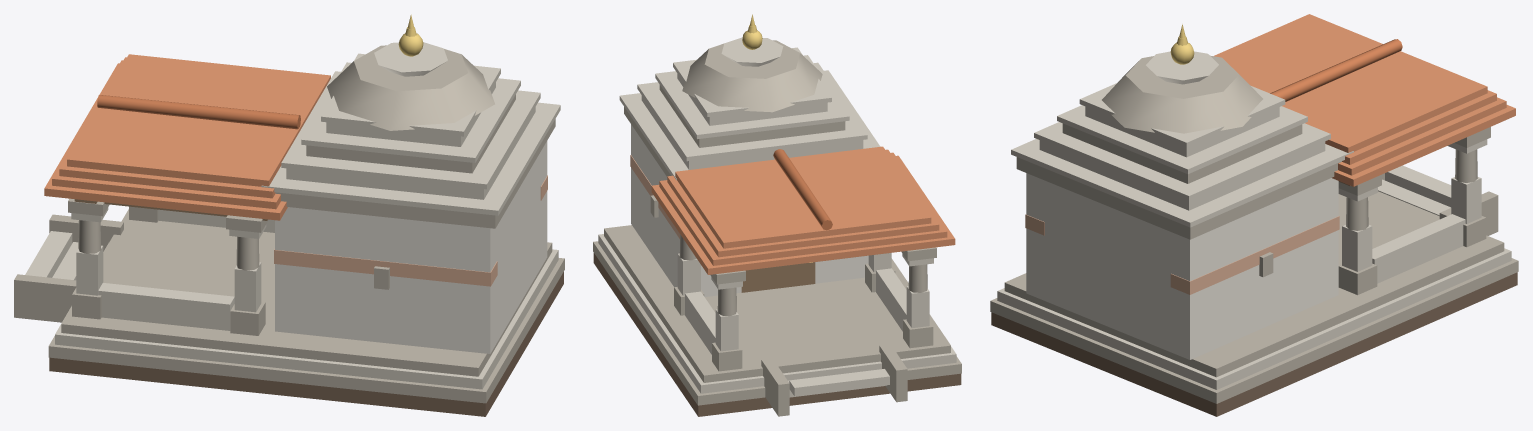
The model's file is south_indian_village_small_temple.glb.
3 views of the same model, side by side, from view 1: azimuth 30°, elevation 25°; view 2: azimuth 150°, elevation 25°; view 3: azimuth 270°, elevation 25° (orthographic). The views are drawn at different scales.
Visible parts, largest first — view 1: Temple_Granite_Adhisthana, Temple_Mukha_Mandapam, Temple_Vimana_Tower, Temple_Sanctum_Garbhagriha, Temple_Subgrade_Skirt, Mandapam_Pillar_4, Mandapam_Pillar_2; view 2: Temple_Mukha_Mandapam, Temple_Granite_Adhisthana, Temple_Vimana_Tower, Temple_Sanctum_Garbhagriha, Temple_Subgrade_Skirt, Mandapam_Pillar_1, Mandapam_Pillar_2, Mandapam_Pillar_3, Mandapam_Pillar_4; view 3: Temple_Sanctum_Garbhagriha, Temple_Vimana_Tower, Temple_Granite_Adhisthana, Temple_Mukha_Mandapam, Temple_Subgrade_Skirt, Mandapam_Pillar_3, Mandapam_Pillar_1.
Part boxes in pixels (x1=…): Temple_Granite_Adhisthana: x1=14, y1=209, x2=564, y2=403; Temple_Mukha_Mandapam: x1=44, y1=54, x2=330, y2=330; Temple_Vimana_Tower: x1=261, y1=14, x2=560, y2=228; Temple_Sanctum_Garbhagriha: x1=274, y1=141, x2=547, y2=353; Temple_Subgrade_Skirt: x1=49, y1=272, x2=563, y2=416; Mandapam_Pillar_4: x1=226, y1=215, x2=268, y2=335; Mandapam_Pillar_2: x1=68, y1=198, x2=109, y2=319; Temple_Mukha_Mandapam: x1=651, y1=146, x2=955, y2=354; Temple_Granite_Adhisthana: x1=593, y1=225, x2=961, y2=416; Temple_Vimana_Tower: x1=619, y1=14, x2=880, y2=180; Temple_Sanctum_Garbhagriha: x1=630, y1=124, x2=868, y2=296; Temple_Subgrade_Skirt: x1=593, y1=253, x2=961, y2=416; Mandapam_Pillar_1: x1=710, y1=270, x2=745, y2=371; Mandapam_Pillar_2: x1=901, y1=247, x2=936, y2=348; Mandapam_Pillar_3: x1=674, y1=235, x2=704, y2=315; Mandapam_Pillar_4: x1=865, y1=253, x2=895, y2=292; Temple_Sanctum_Garbhagriha: x1=1025, y1=173, x2=1339, y2=359; Temple_Vimana_Tower: x1=1011, y1=24, x2=1353, y2=239; Temple_Granite_Adhisthana: x1=990, y1=165, x2=1518, y2=403; Temple_Mukha_Mandapam: x1=1213, y1=14, x2=1515, y2=283; Temple_Subgrade_Skirt: x1=991, y1=272, x2=1517, y2=416; Mandapam_Pillar_3: x1=1338, y1=174, x2=1381, y2=295; Mandapam_Pillar_1: x1=1447, y1=127, x2=1490, y2=247.
Size of the model in its own units: 7.94 by 5.16 by 7.9.
